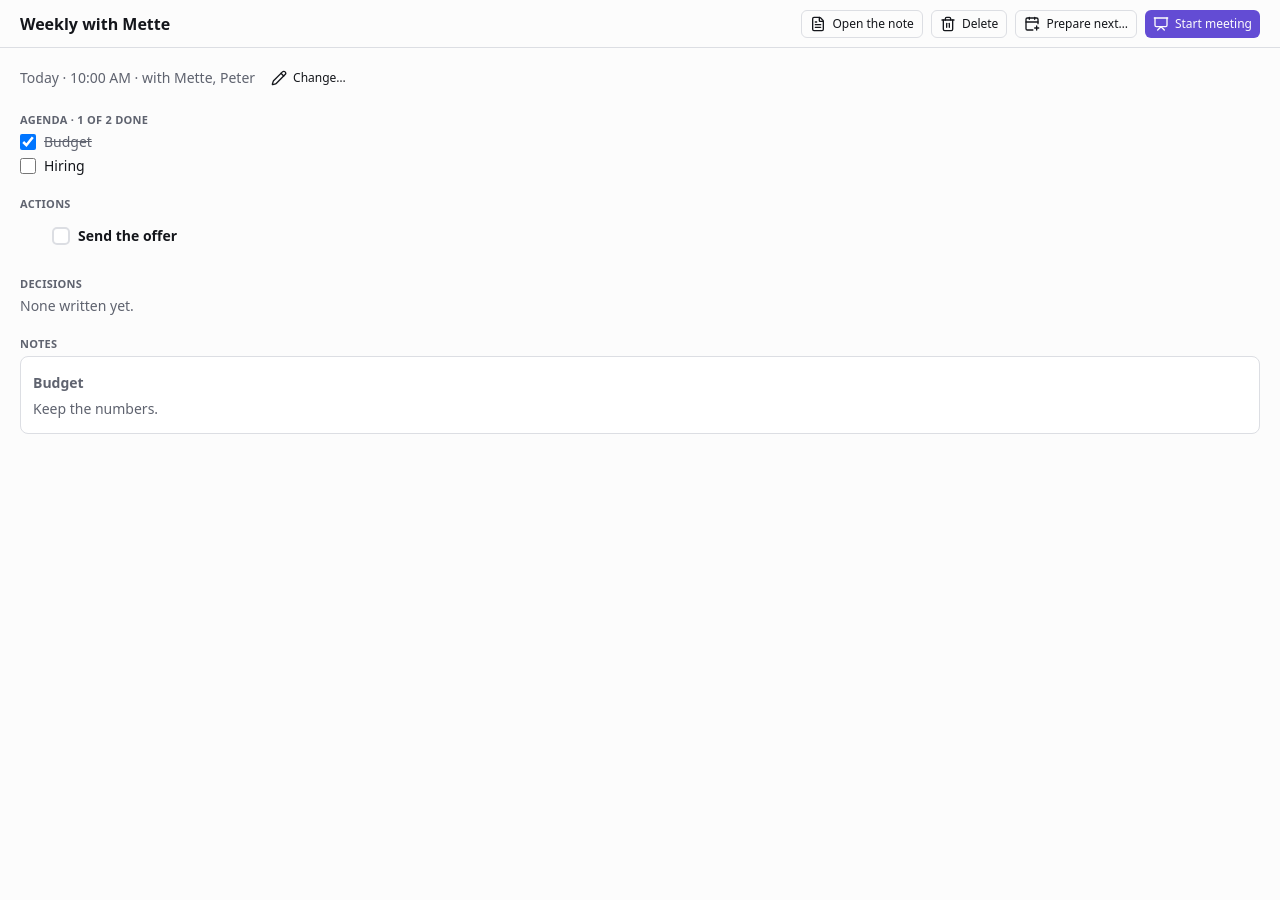
Test: The Meetings area › does not save a time that cannot be read
The image size is (1280, 900).
Click the button "Change…": {"x": 308, "y": 78} [263,64,354,92]
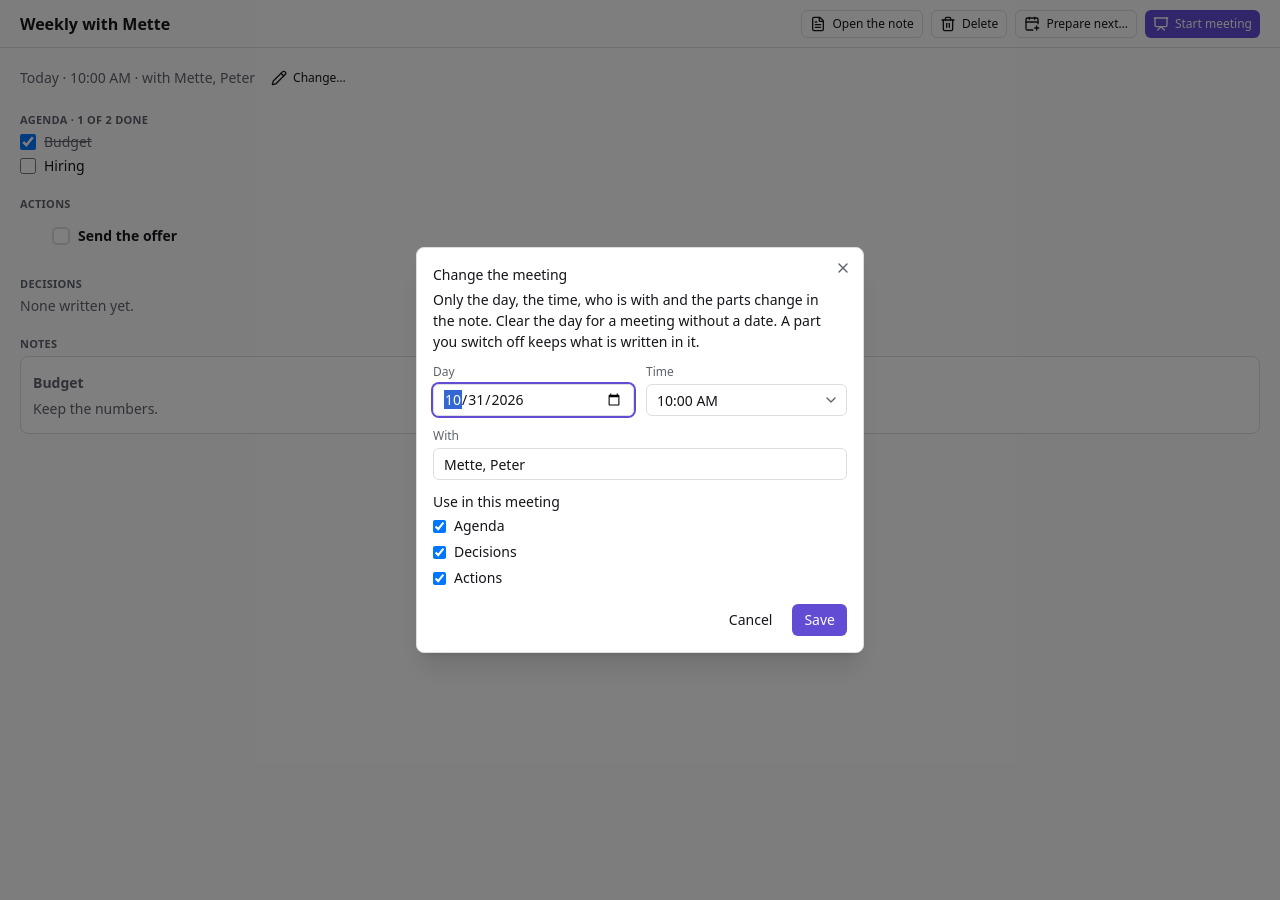
Replace the text in the dropdown labelled "Time" with "25:00": {"x": 746, "y": 400} [646,384,847,416]
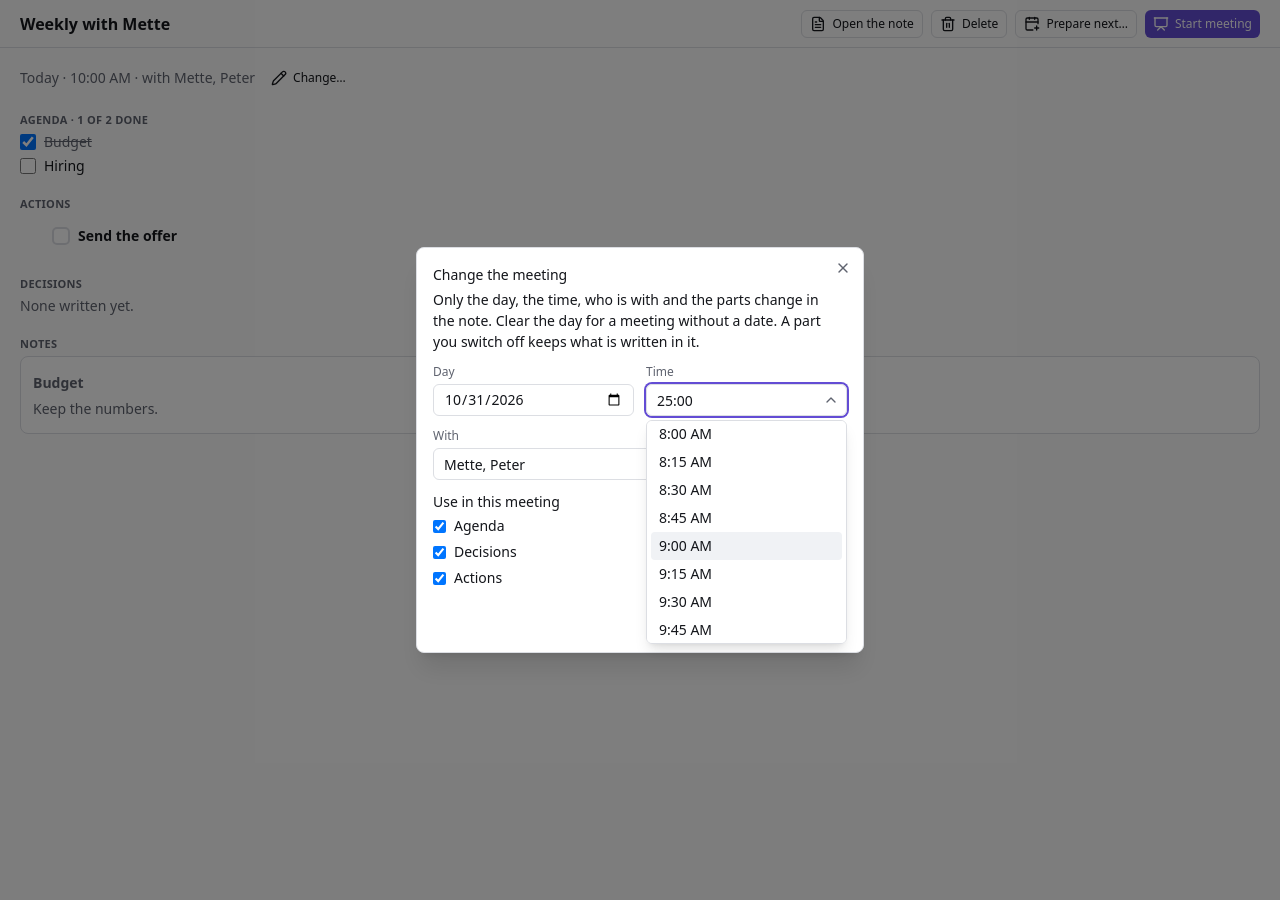
Check: the button "Save" is disabled, box [792,604,847,636]
